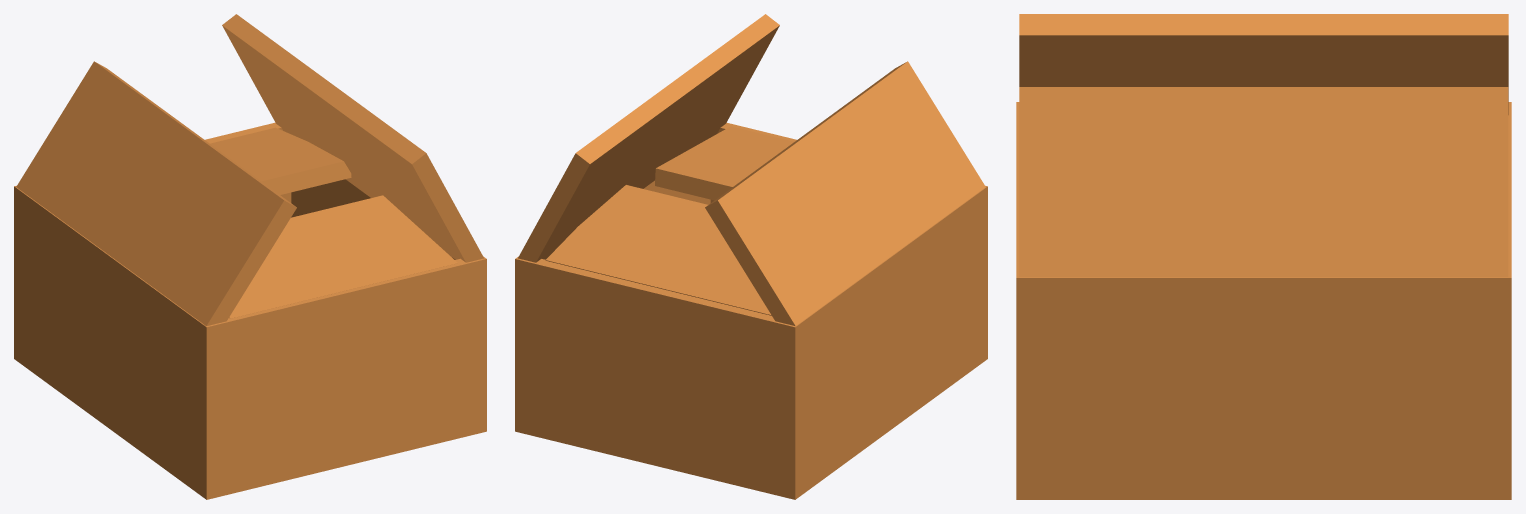
The model's file is package.glb.
3 views of the same model, side by side, from view 1: azimuth 30°, elevation 25°; view 2: azimuth 150°, elevation 25°; view 3: azimuth 270°, elevation 25° (orthographic). The views are drawn at different scales.
Parts seen in each view (by area): view 1: Cube, Cube.004, Cube.005, Cube.002, Cube.003; view 2: Cube, Cube.004, Cube.005, Cube.003, Cube.002; view 3: Cube, Cube.005, Cube.004.
Part boxes in pixels (left/top/right/bottom): Cube: left=14, top=122, right=486, bottom=499; Cube.004: left=16, top=61, right=296, bottom=326; Cube.005: left=222, top=14, right=483, bottom=262; Cube.002: left=229, top=195, right=457, bottom=318; Cube.003: left=210, top=127, right=351, bottom=194; Cube: left=515, top=122, right=987, bottom=499; Cube.004: left=705, top=61, right=985, bottom=326; Cube.005: left=518, top=14, right=779, bottom=262; Cube.003: left=545, top=185, right=771, bottom=315; Cube.002: left=655, top=126, right=794, bottom=200; Cube: left=1016, top=102, right=1511, bottom=499; Cube.005: left=1019, top=87, right=1508, bottom=276; Cube.004: left=1019, top=14, right=1508, bottom=114.
Bounding box in the file's own units: 2 × 1.99 × 2.38.
